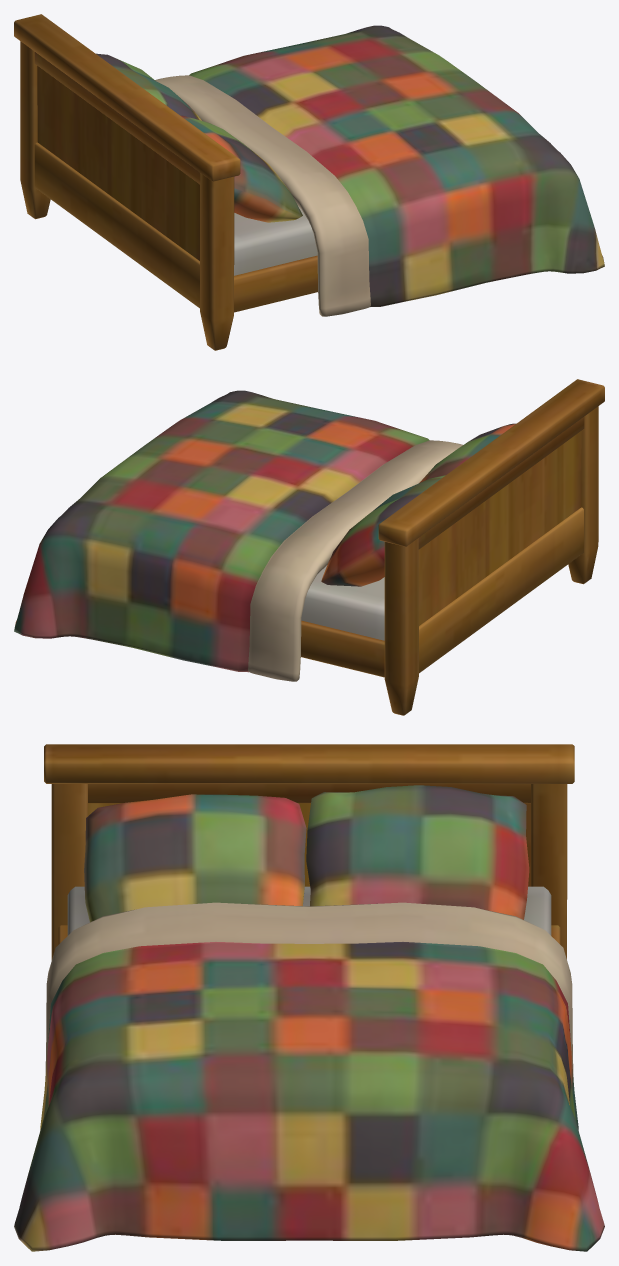
3 renders of one model, top to bottom at view 1: azimuth 30°, elevation 25°; view 2: azimuth 150°, elevation 25°; view 3: azimuth 270°, elevation 25°, orthographic. The views are drawn at different scales.
Bounding box in the file's own units: 19.65 × 9.14 × 19.09.
Materials: 1 (1 with a texture image).
